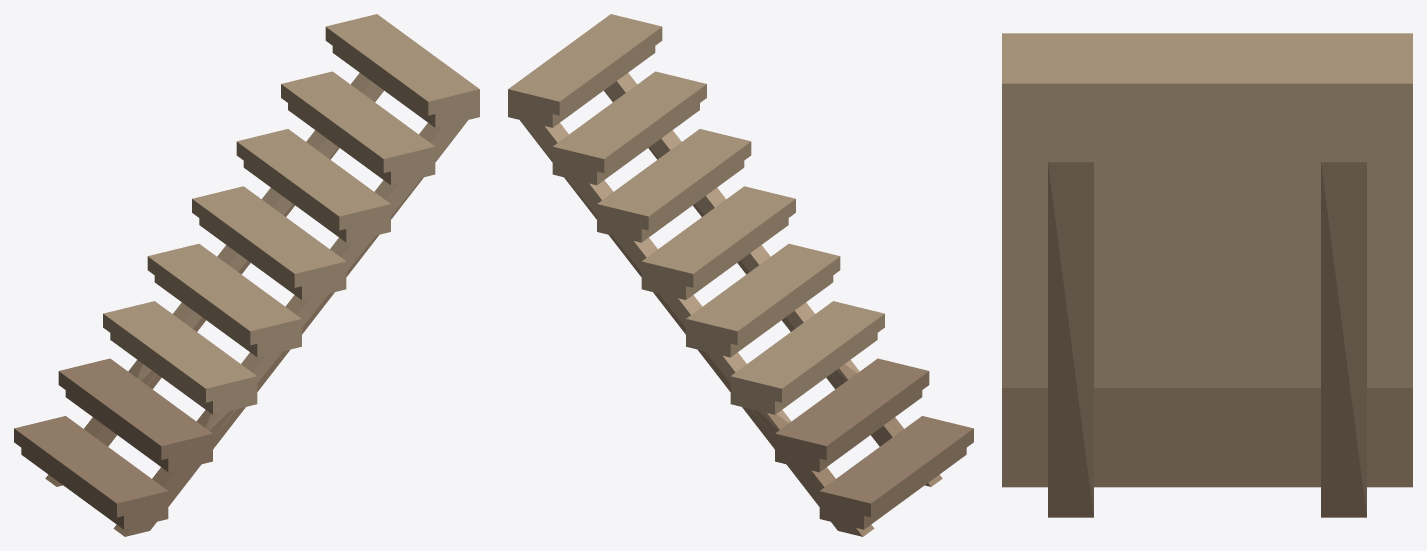
3 renders of one model, left to right at view 1: azimuth 30°, elevation 25°; view 2: azimuth 150°, elevation 25°; view 3: azimuth 270°, elevation 25°, orthographic. The views are drawn at different scales.
Parts seen in each view (by area): view 1: model; view 2: model; view 3: model.
Part boxes in pixels (x1,y1,x2,y2): model: (14,14,479,536); model: (508,14,973,536); model: (1002,33,1412,517).
Size of the model in its own units: 2.04 by 2 by 1.
